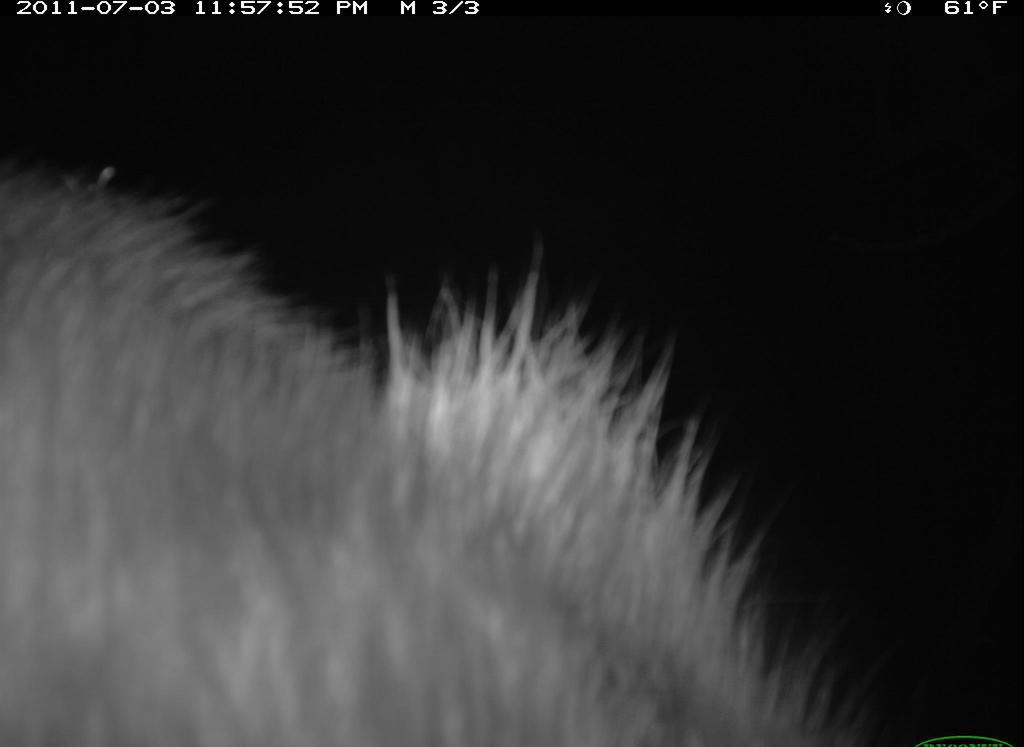raccoon: (6, 129, 890, 745)
